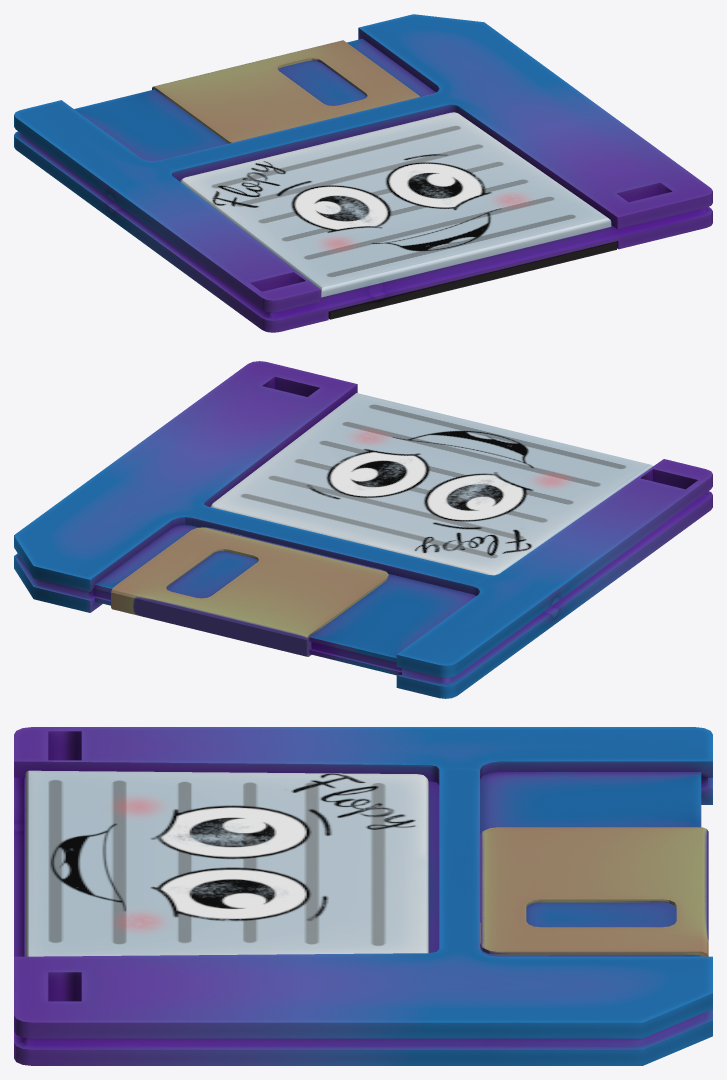
File: FloppyDisk.fbx
3 renders of one model, top to bottom at view 1: azimuth 30°, elevation 25°; view 2: azimuth 150°, elevation 25°; view 3: azimuth 270°, elevation 25°, orthographic. The views are drawn at different scales.
Visible parts, largest first — view 1: SK_Body_001; view 2: SK_Body_001; view 3: SK_Body_001.
Boxes of the visible parts, x1=… form: SK_Body_001: x1=14, y1=14, x2=712, y2=332; SK_Body_001: x1=14, y1=361, x2=712, y2=698; SK_Body_001: x1=14, y1=727, x2=712, y2=1065.
Bounding box in the file's own units: 30000 × 2425 × 30000.
